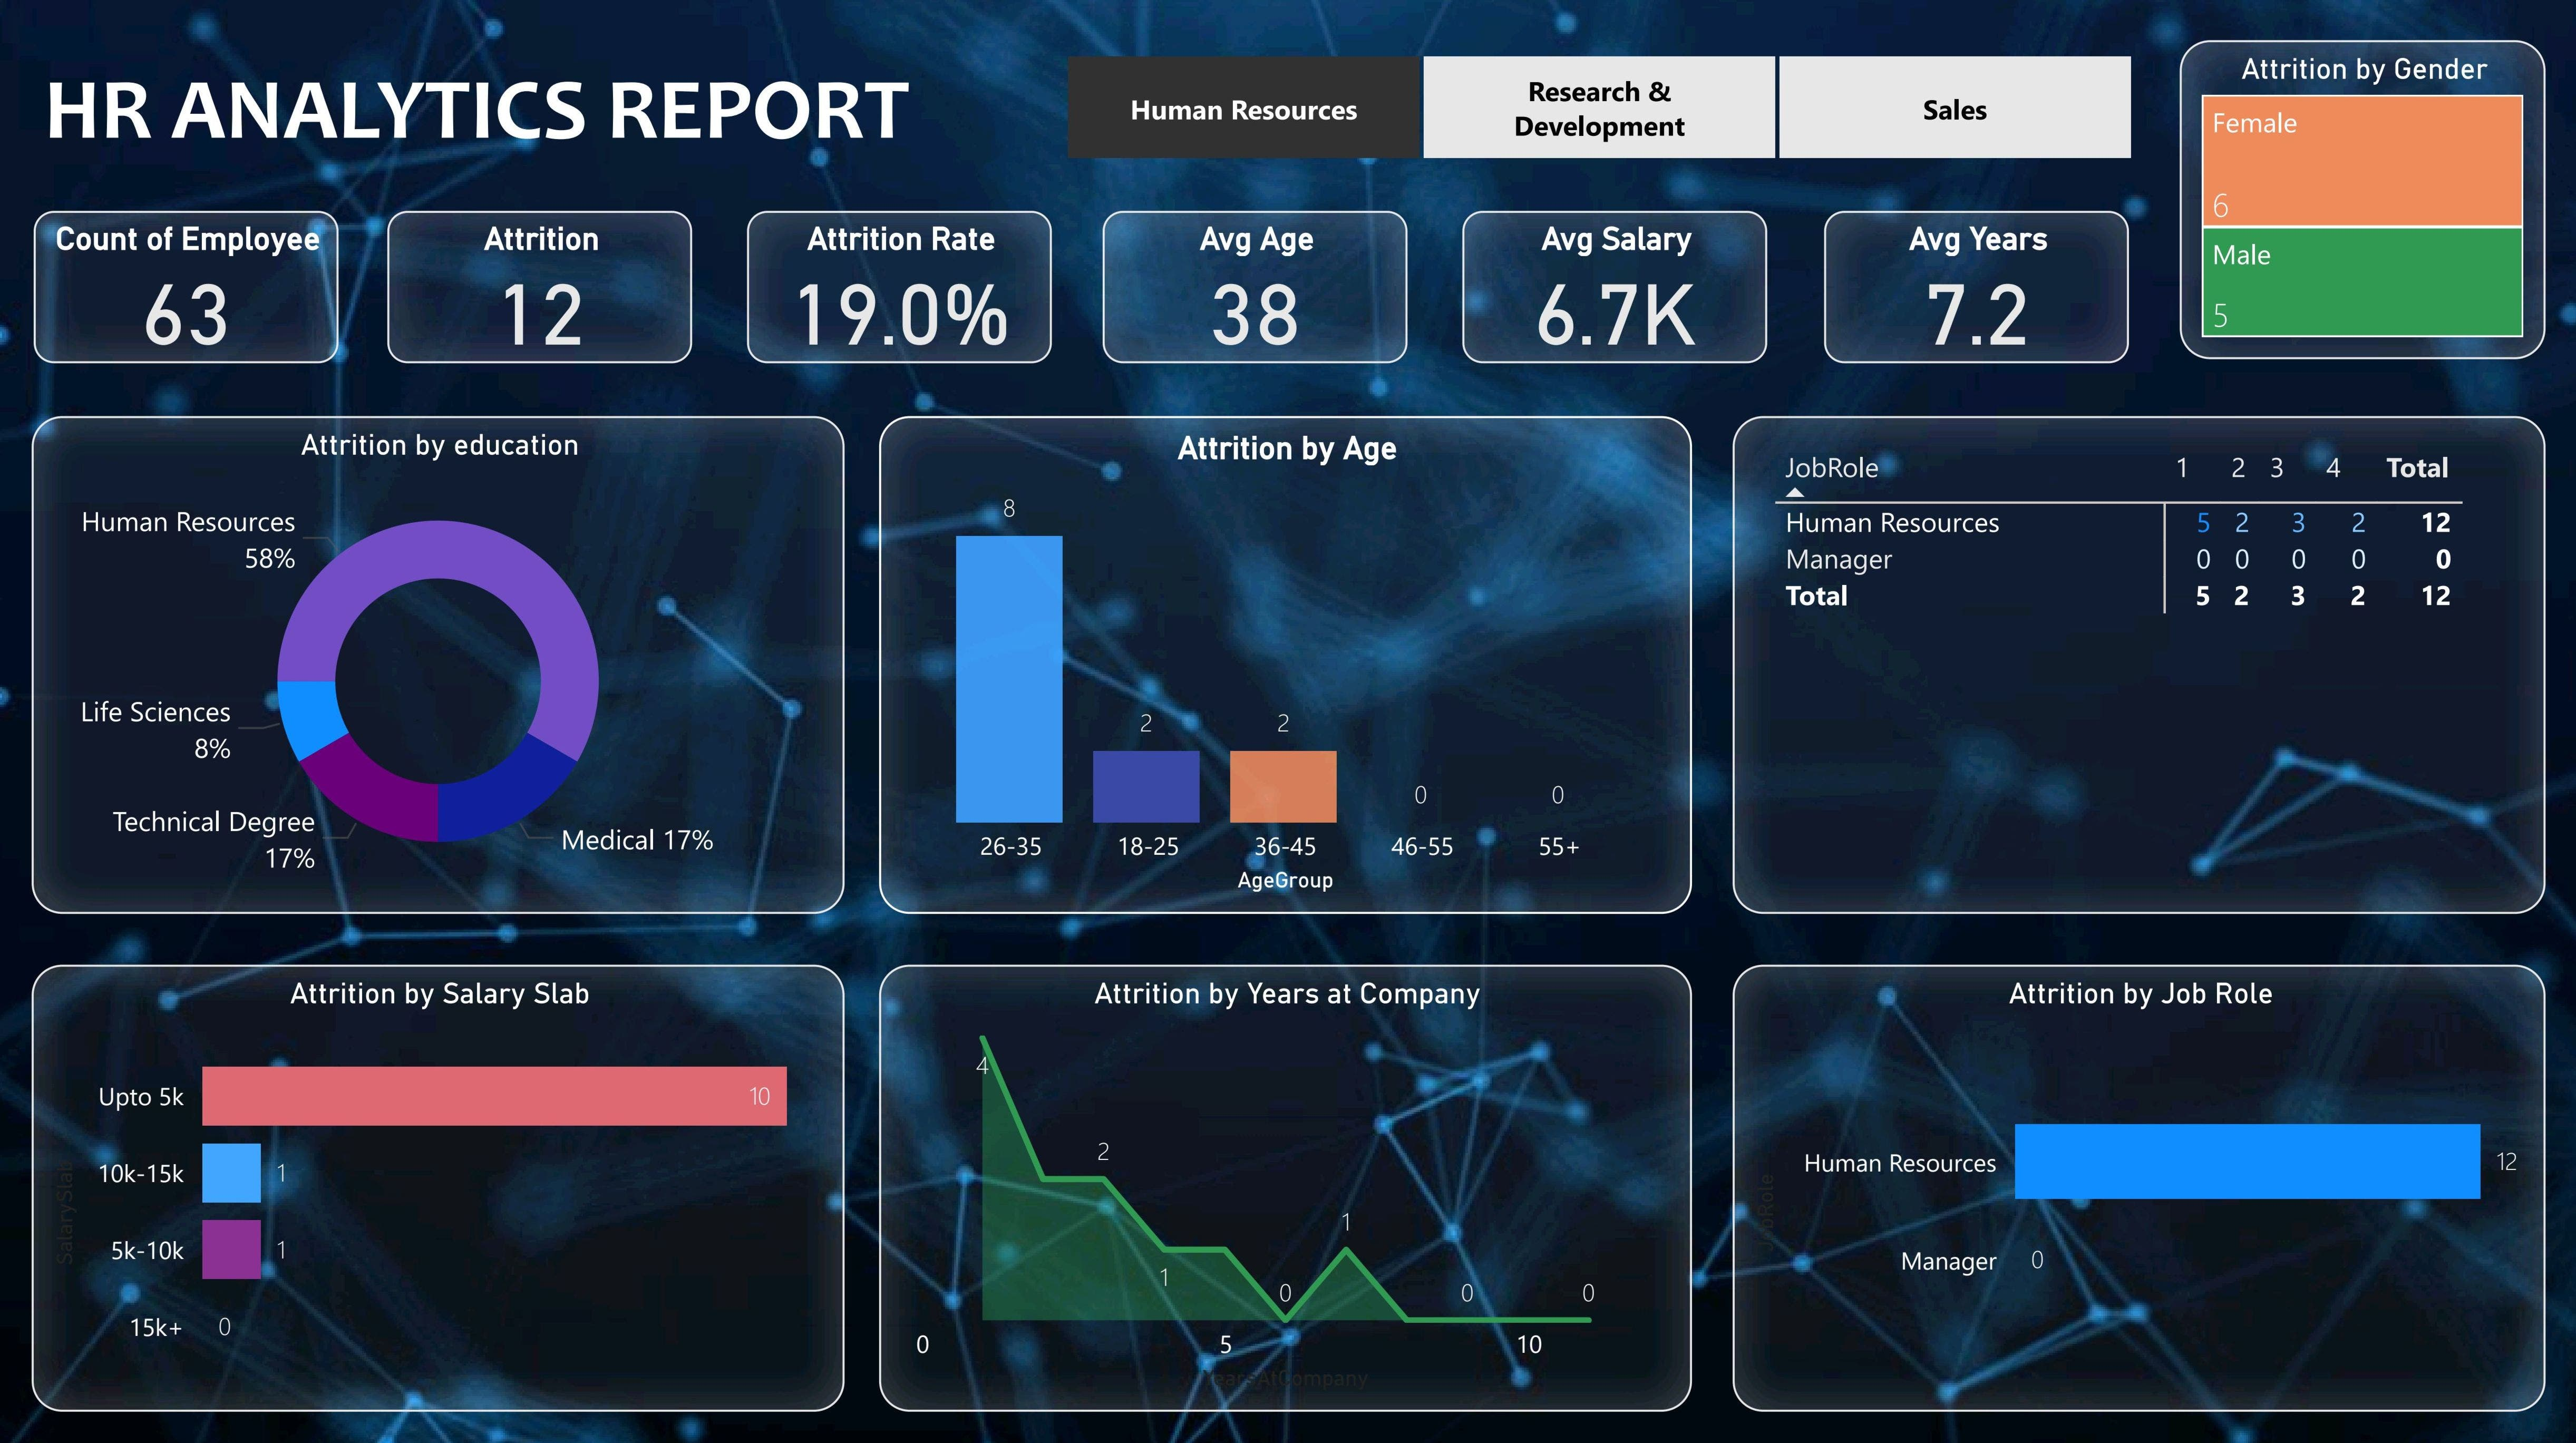

The page's visual inventory and layout, read from the dashboard file:
{"tool":"powerbi","page":{"name":"Page 1","canvas":[1280,720],"ordinal":0},"visuals":[{"type":"card","title":"Count of Employee","fields":{"Values":["CountNonNull(HR_Analytics.EmpID)"]},"box":[23.9,106,150,74.8],"z":0},{"type":"card","title":"Attrition","fields":{"Values":["Sum(HR_Analytics.AttritionCount)"]},"box":[198,106,150,74.8],"z":1000},{"type":"card","title":"Attrition Rate","fields":{"Values":["HR_Analytics.Attrition rate"]},"box":[375,106,150,74.8],"z":2000},{"type":"card","title":"Avg Age","fields":{"Values":["Avg(HR_Analytics.Age)"]},"box":[550,106,150,74.8],"z":3000},{"type":"card","title":"Avg Salary","fields":{"Values":["Avg(HR_Analytics.MonthlyIncome)"]},"box":[727,106,150,74.8],"z":4000},{"type":"card","title":"Avg Years","fields":{"Values":["Avg(HR_Analytics.YearsAtCompany)"]},"box":[905,106,150,74.8],"z":5000},{"type":"donutChart","title":"Attrition by education","fields":{"Category":["HR_Analytics.EducationField"],"Y":["Sum(HR_Analytics.AttritionCount)"]},"box":[23.3,207,400,245],"z":6000},{"type":"columnChart","title":"Attrition by Age","fields":{"Category":["HR_Analytics.AgeGroup"],"Y":["Sum(HR_Analytics.AttritionCount)"]},"box":[440,207,400,245],"z":7000},{"type":"pivotTable","fields":{"Rows":["HR_Analytics.JobRole"],"Columns":["HR_Analytics.JobSatisfaction"],"Values":["Sum(HR_Analytics.AttritionCount)"]},"box":[860,206.7,400,245],"z":8000},{"type":"barChart","title":"Attrition by Salary Slab","fields":{"Category":["HR_Analytics.SalarySlab"],"Y":["Sum(HR_Analytics.AttritionCount)"]},"box":[23.3,476.7,400,220],"z":9000},{"type":"barChart","title":"Attrition by Job Role","fields":{"Category":["HR_Analytics.JobRole","HR_Analytics.SalarySlab"],"Y":["Sum(HR_Analytics.AttritionCount)"]},"box":[860,476.7,400,220],"z":10000},{"type":"areaChart","title":"Attrition by Years at Company","fields":{"Category":["HR_Analytics.YearsAtCompany"],"Y":["Sum(HR_Analytics.AttritionCount)"]},"box":[440,476.7,400,220],"z":11000},{"type":"treemap","title":"Attrition by Gender","fields":{"Group":["HR_Analytics.Gender"],"Values":["Sum(HR_Analytics.AttritionCount)"]},"box":[1080,22,179.7,157.5],"z":12000},{"type":"slicer","fields":{"Values":["HR_Analytics.Department"]},"box":[506.7,23.3,573.3,63.3],"z":13000},{"type":"textbox","box":[23.9,23.9,459.7,63.6],"z":14000}]}

Visuals, with their boxes in screenshot pixels (x1, y1, x2, y2), scaled from the page's 1280x720 canvas onto the 2576x1443 screenshot:
"Count of Employee" card: [left=48, top=212, right=350, bottom=363]
"Attrition" card: [left=398, top=212, right=701, bottom=363]
"Attrition Rate" card: [left=755, top=212, right=1056, bottom=363]
"Avg Age" card: [left=1107, top=212, right=1409, bottom=363]
"Avg Salary" card: [left=1463, top=212, right=1765, bottom=363]
"Avg Years" card: [left=1821, top=212, right=2123, bottom=363]
"Attrition by education" donutChart: [left=47, top=415, right=852, bottom=906]
"Attrition by Age" columnChart: [left=886, top=415, right=1690, bottom=906]
pivotTable - HR_Analytics.JobRole x HR_Analytics.JobSatisfaction: [left=1731, top=414, right=2536, bottom=905]
"Attrition by Salary Slab" barChart: [left=47, top=955, right=852, bottom=1396]
"Attrition by Job Role" barChart: [left=1731, top=955, right=2536, bottom=1396]
"Attrition by Years at Company" areaChart: [left=886, top=955, right=1690, bottom=1396]
"Attrition by Gender" treemap: [left=2173, top=44, right=2535, bottom=360]
slicer - HR_Analytics.Department: [left=1020, top=47, right=2173, bottom=173]
textbox: [left=48, top=48, right=973, bottom=175]
